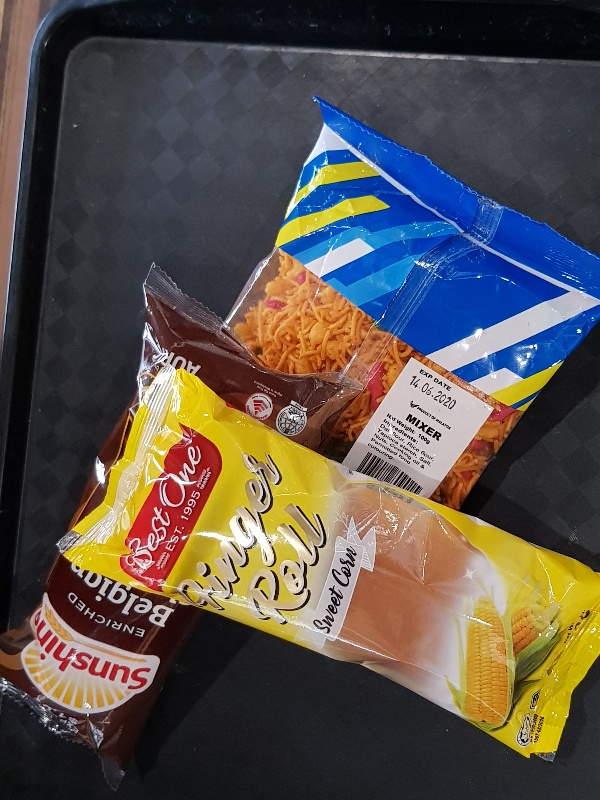Star Tidbits Mixer: (224, 95, 600, 510)
Sunshine Belgium Chocolate Wholemeal Cream Bun: (1, 263, 360, 777)
Tinges Roll Sweet Corn: (57, 367, 600, 762)
